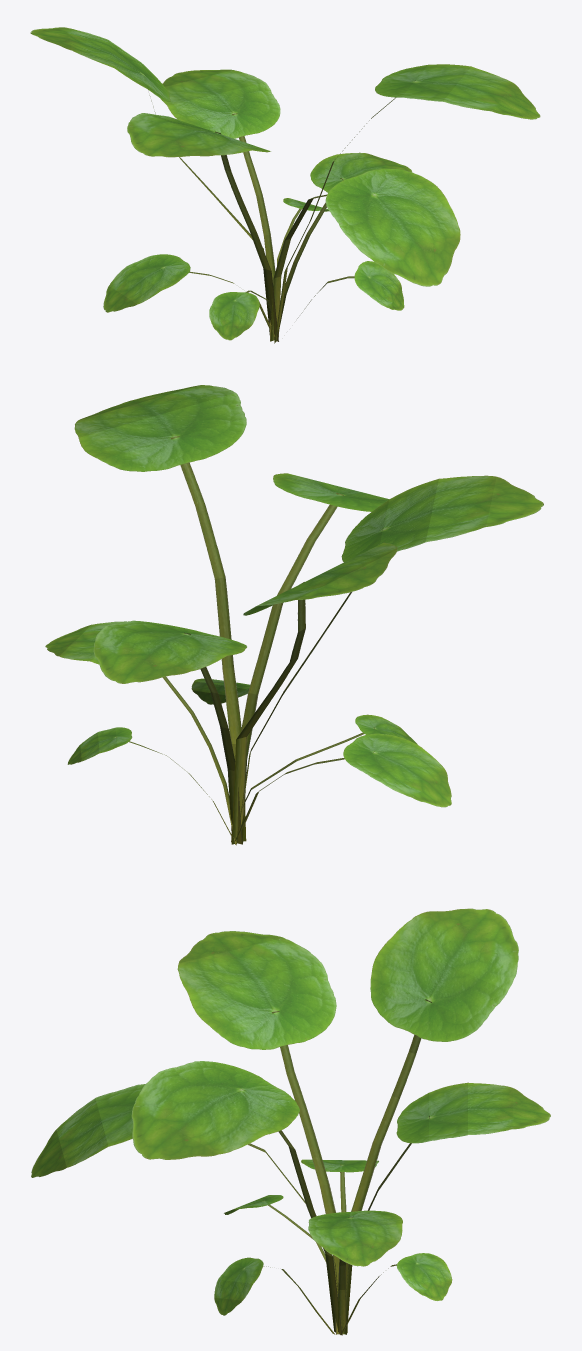
Rendered from Pilea1.fbx.
3 views of the same model, one above another, from view 1: azimuth 30°, elevation 25°; view 2: azimuth 150°, elevation 25°; view 3: azimuth 270°, elevation 25° (orthographic). The views are drawn at different scales.
Visible parts, largest first — view 1: Pilea.021; view 2: Pilea.021; view 3: Pilea.021.
Boxes of the visible parts, x1,y1,x2,y2 form: Pilea.021: (30,27,540,343); Pilea.021: (45,385,543,845); Pilea.021: (31,908,550,1335).
Bounding box in the file's own units: 152 × 101 × 147.
